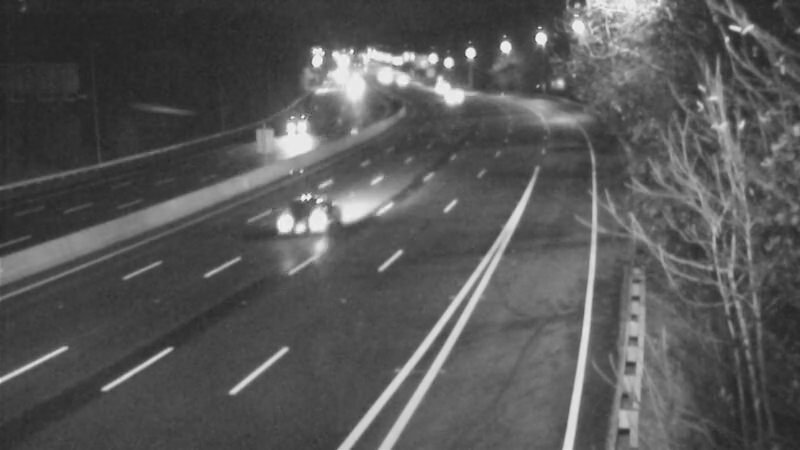vehicle: (273, 175, 353, 255), (378, 54, 428, 104), (413, 61, 463, 111), (429, 72, 479, 122), (269, 105, 319, 155)
